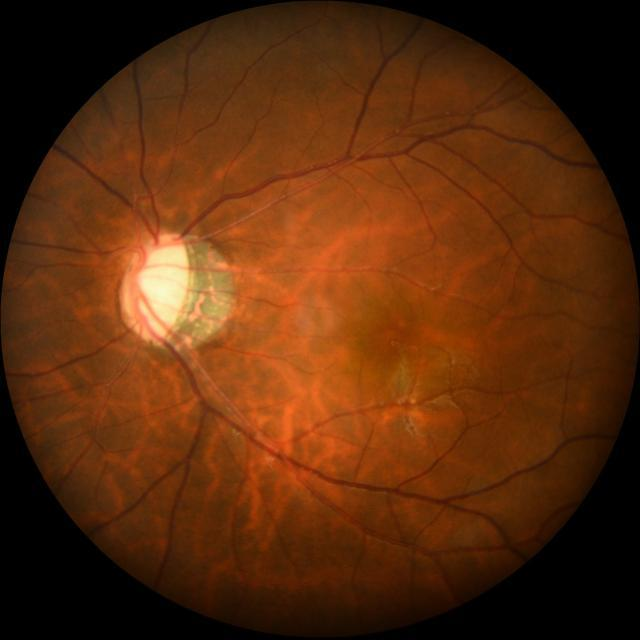OC: (137, 245, 183, 328)
OD: (122, 228, 192, 344)
